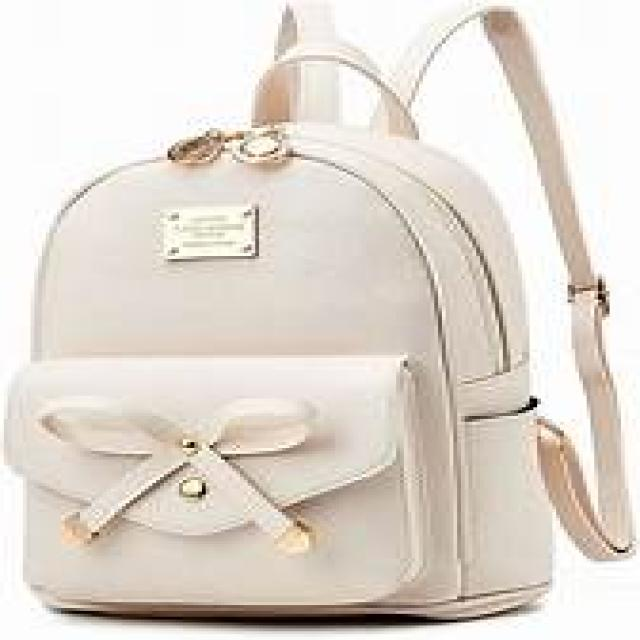backpack: (1, 1, 637, 621)
